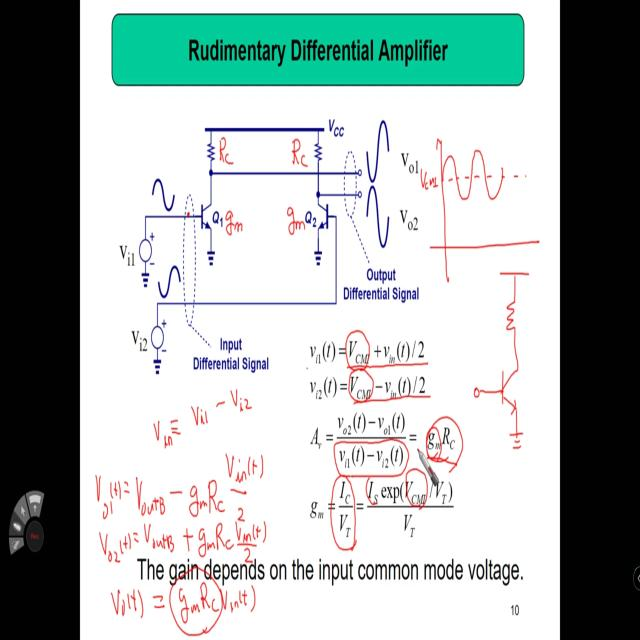panseo: (89, 379, 275, 634), (417, 106, 546, 262), (468, 266, 540, 459)
